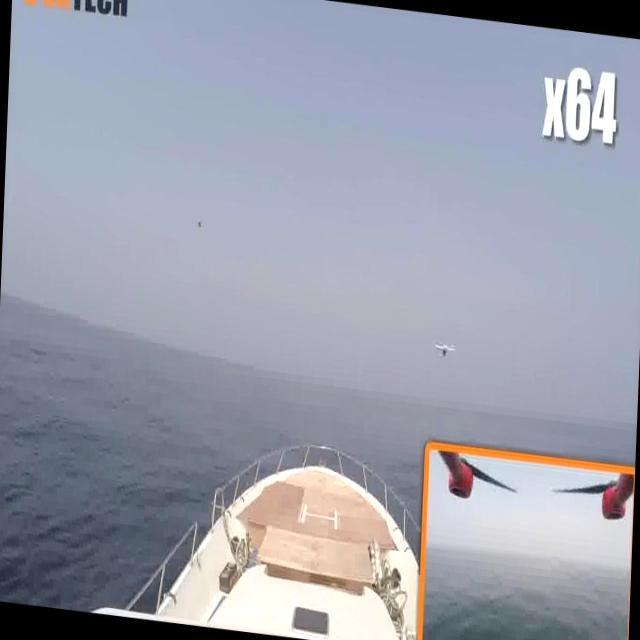drone: (426, 332, 461, 366), (193, 212, 214, 232)
